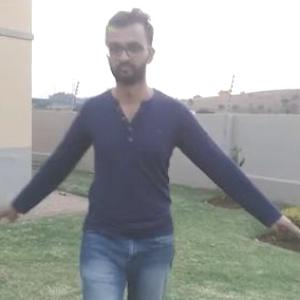land: (0, 25, 293, 299)
